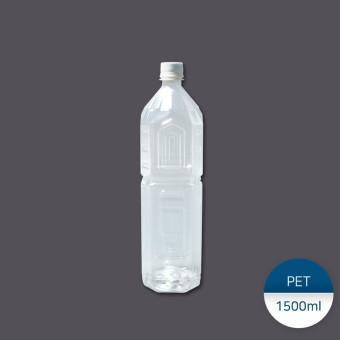bottle: (138, 61, 210, 293)
